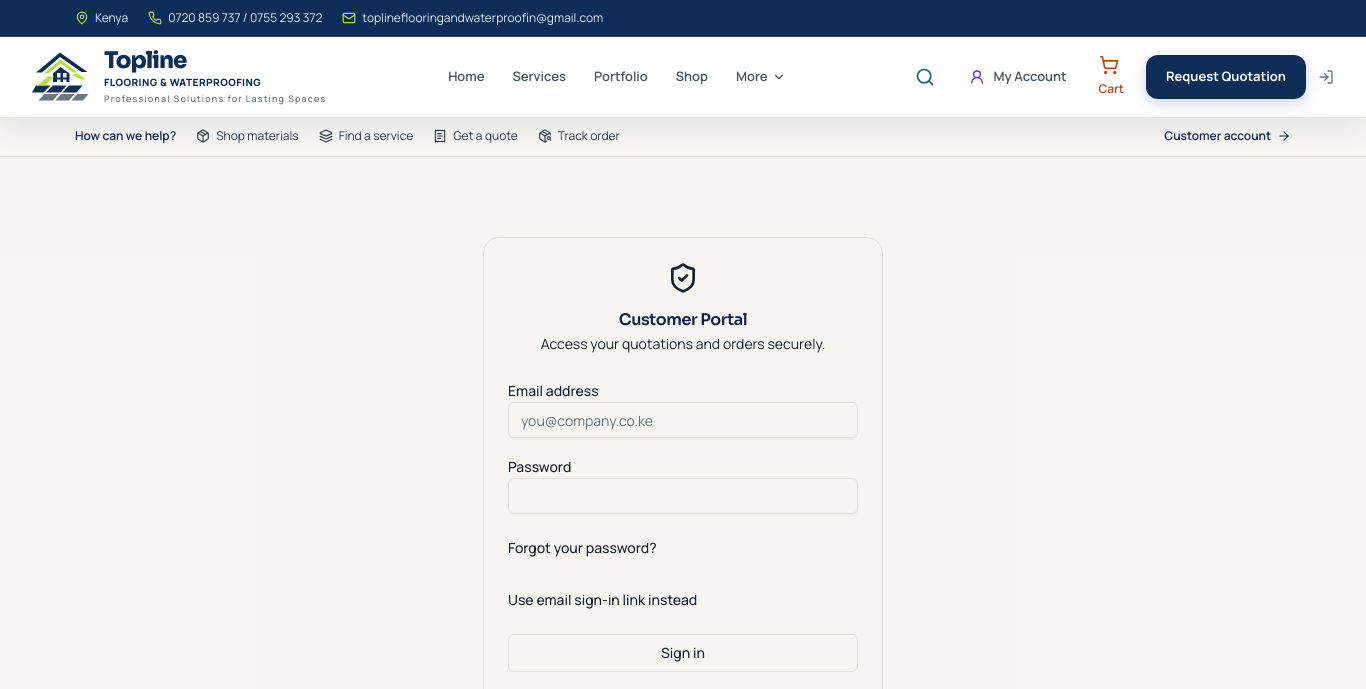
customer password recovery and email-link problems › shows a clear message when the reset request is refused
Click the button "Forgot your password?". click: click(582, 548)
box: x1=508 y1=530 x2=657 y2=566
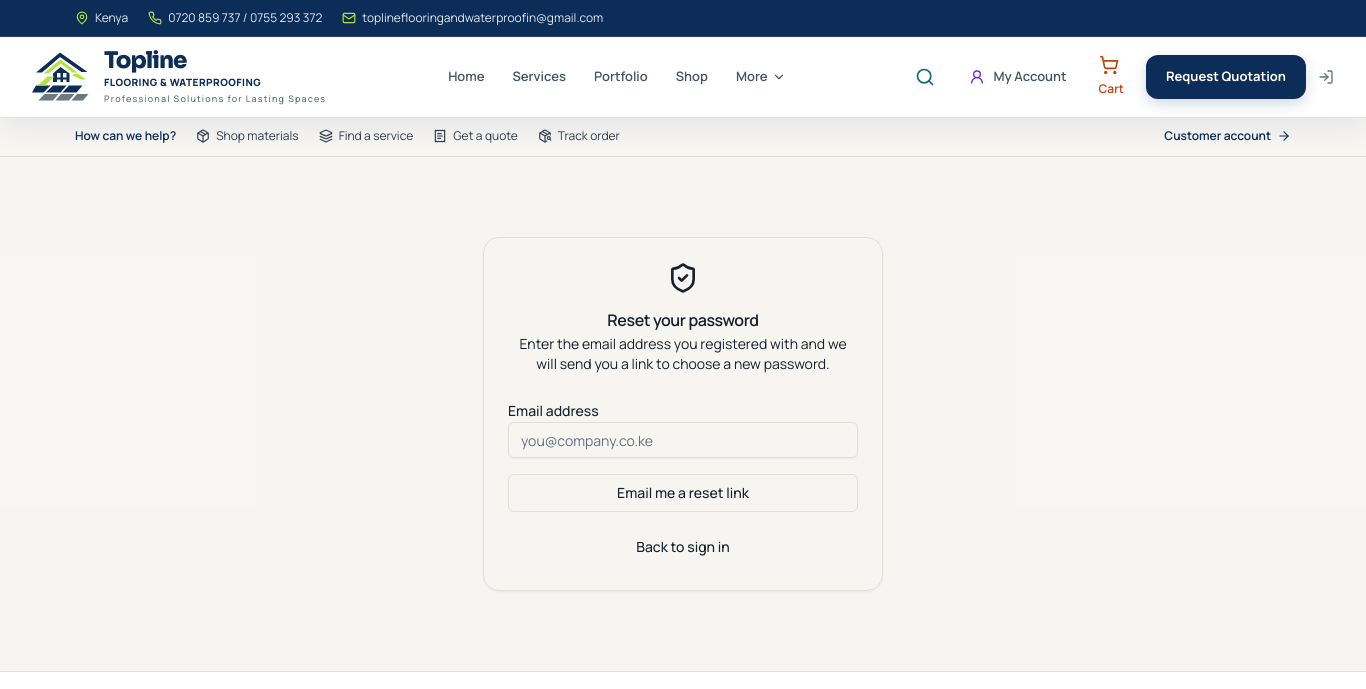
Type "rl@example.org" into the field labelled "Email address". click: (683, 440)
box: x1=508 y1=422 x2=858 y2=458
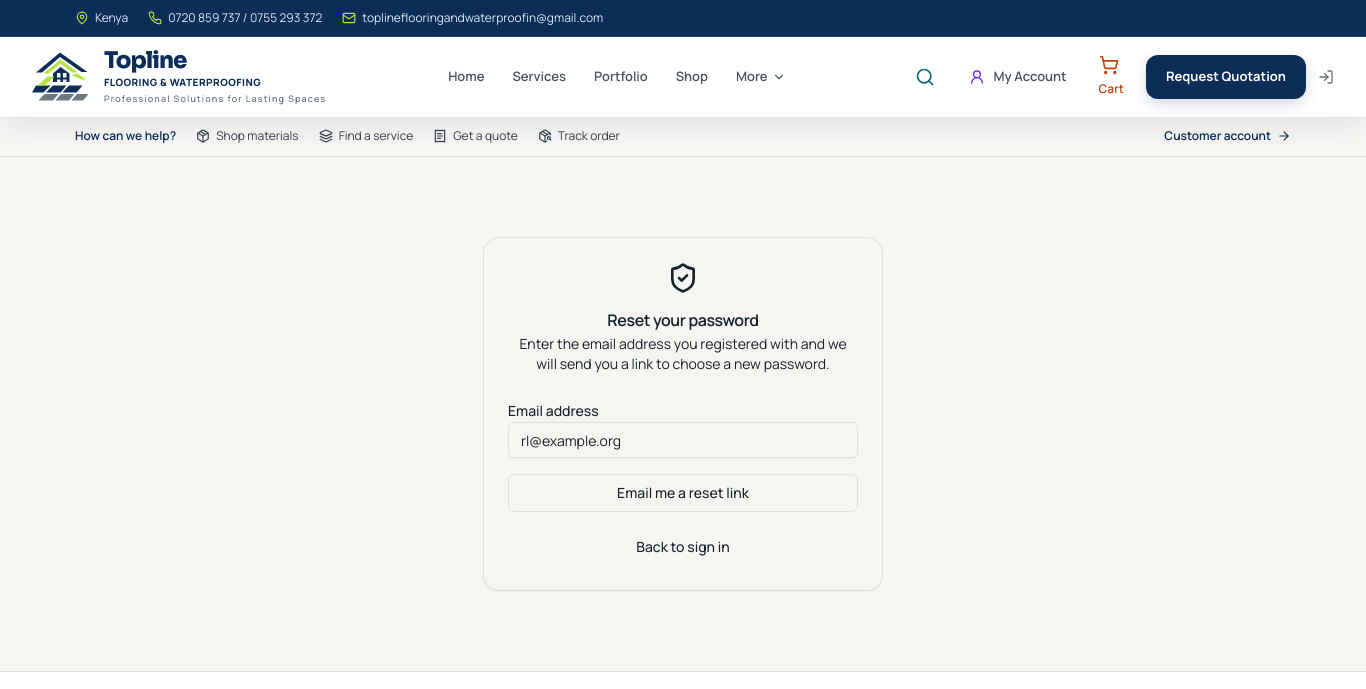
Click the button "Email me a reset link". click: click(683, 493)
box: x1=508 y1=474 x2=858 y2=512
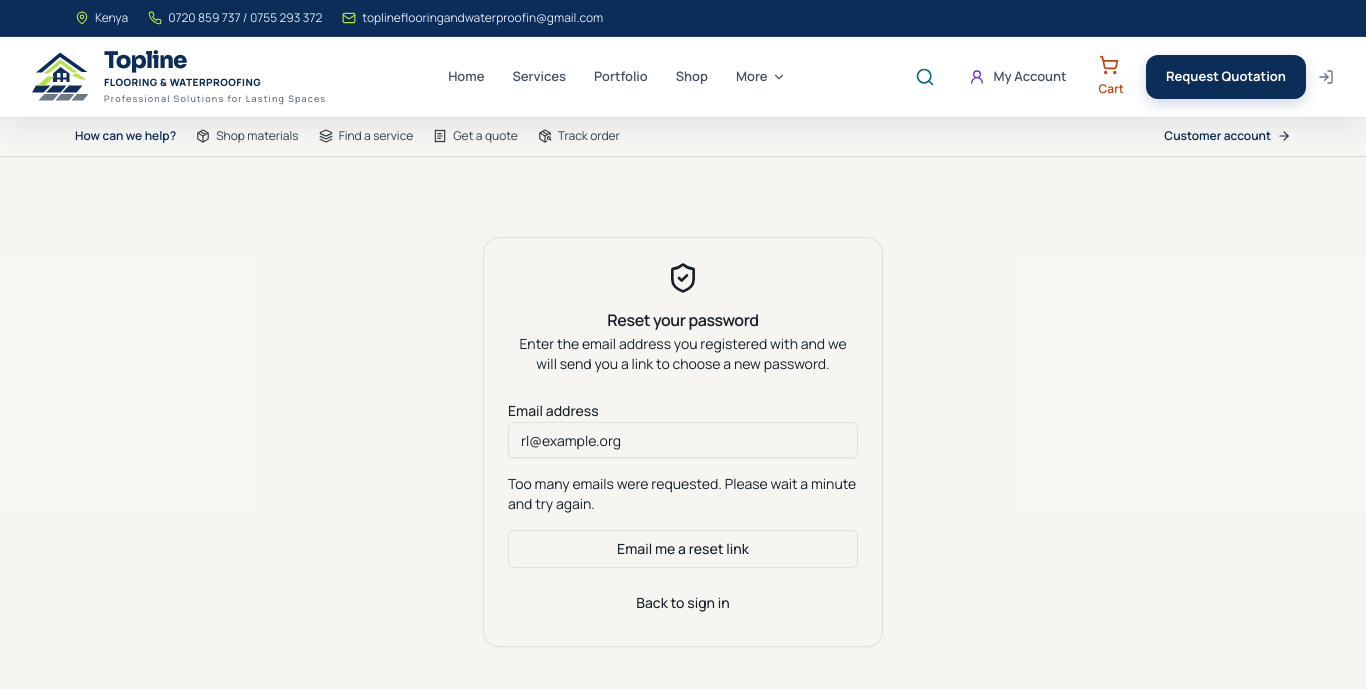
Now the text "Too many emails were requested. Please wait a minute and try again." is shown, box x1=508 y1=474 x2=858 y2=514
